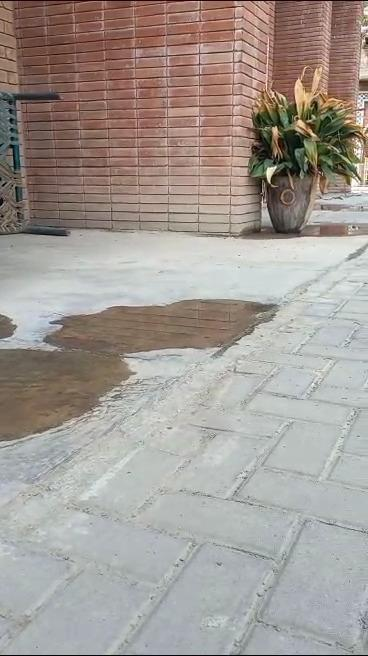water accumulation: (3, 292, 269, 450), (243, 219, 368, 242)
